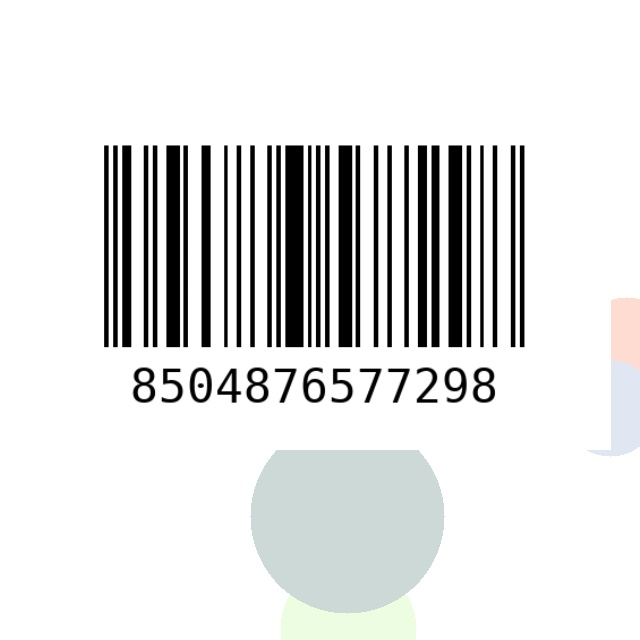barcode: (18, 133, 611, 450)
